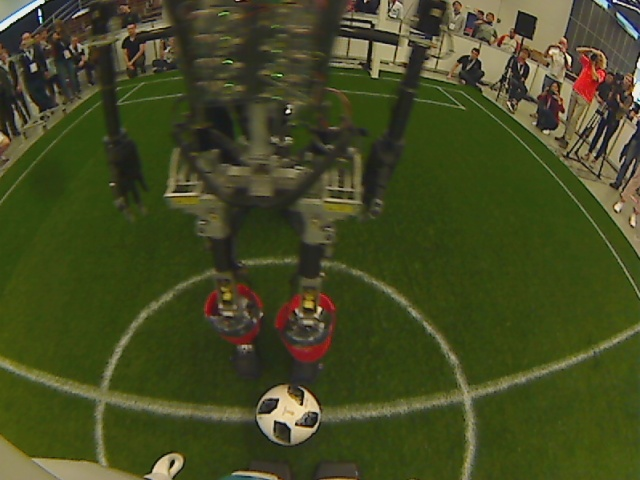ball: (253, 383, 325, 451)
robot: (90, 1, 448, 383)
